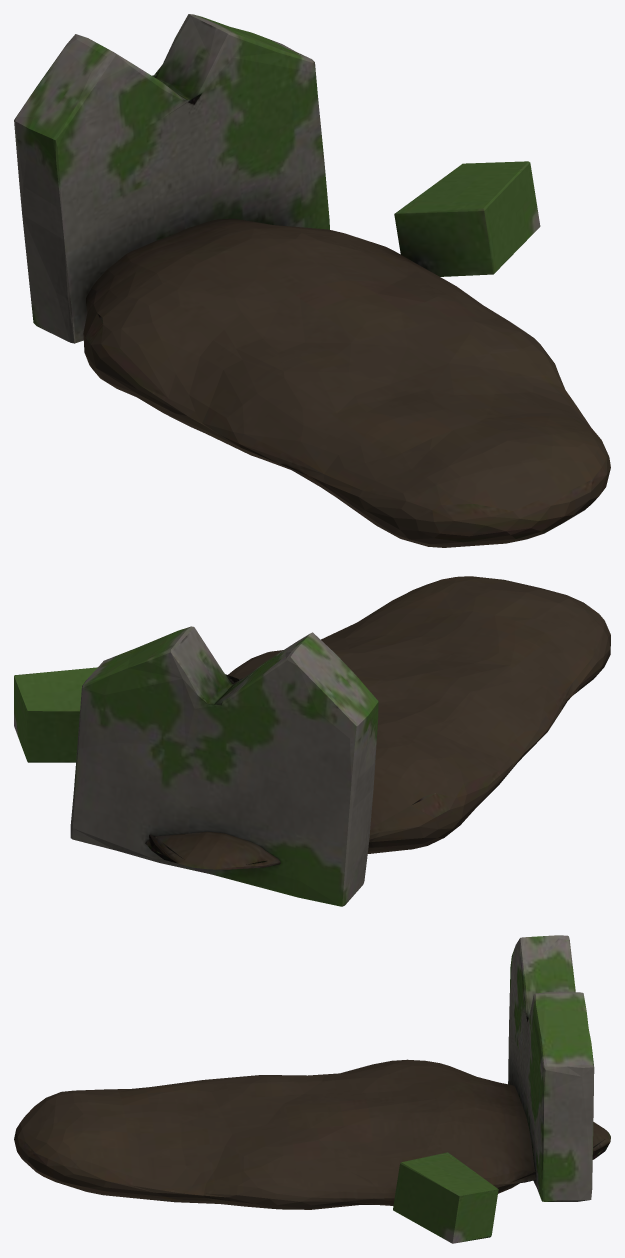
File: vespera_lapide_d.glb
3 views of the same model, one above another, from view 1: azimuth 30°, elevation 25°; view 2: azimuth 150°, elevation 25°; view 3: azimuth 270°, elevation 25° (orthographic). The views are drawn at different scales.
Visible parts, largest first — view 1: vespera_lapide_d_tronco; view 2: vespera_lapide_d_tronco; view 3: vespera_lapide_d_tronco.
Boxes of the visible parts, <box> form: vespera_lapide_d_tronco: <box>14,14,610,547</box>; vespera_lapide_d_tronco: <box>14,576,610,906</box>; vespera_lapide_d_tronco: <box>14,935,610,1243</box>.
Bounding box in the file's own units: 1.05 × 0.6306 × 1.56.
1 material, 1 textured.
